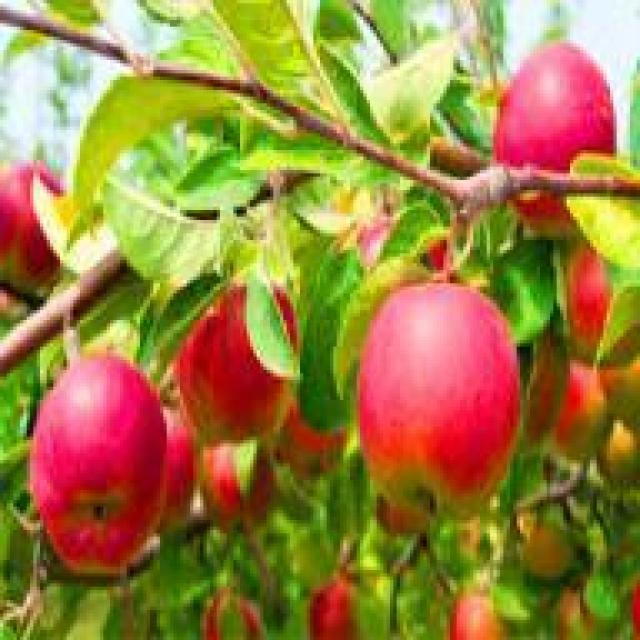apple: (360, 273, 517, 500), (33, 350, 160, 577), (487, 30, 623, 237), (180, 267, 290, 440), (556, 253, 640, 373)
